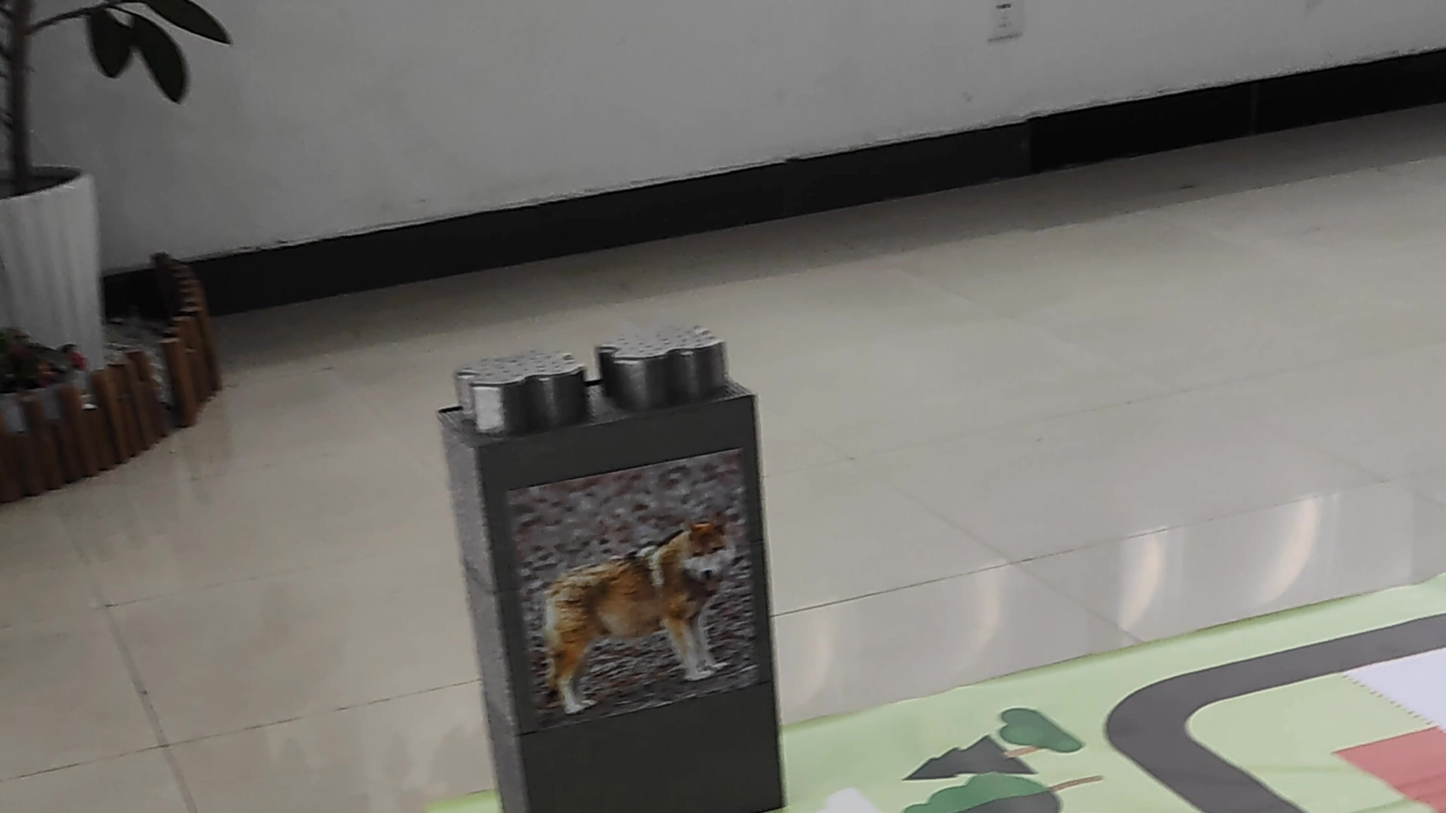wolf: (525, 511, 760, 739)
